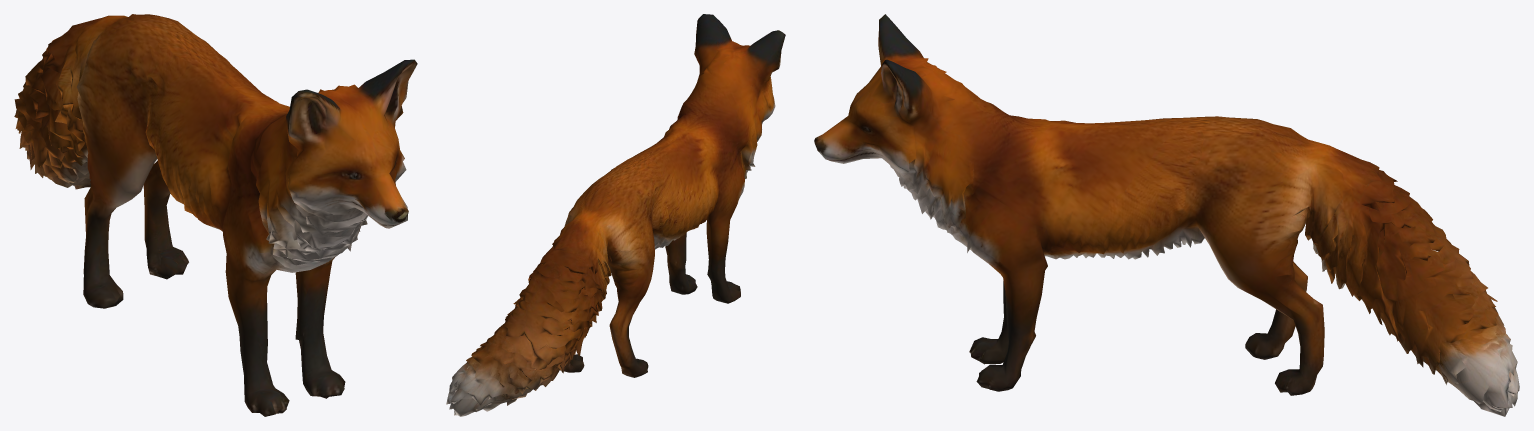
Rendered from kitune.glb.
3 views of the same model, side by side, from view 1: azimuth 30°, elevation 25°; view 2: azimuth 150°, elevation 25°; view 3: azimuth 270°, elevation 25° (orthographic). The views are drawn at different scales.
Parts seen in each view (by area): view 1: tripo_node_2a74c7a4-60a2-42cf-8e90-471778430e17; view 2: tripo_node_2a74c7a4-60a2-42cf-8e90-471778430e17; view 3: tripo_node_2a74c7a4-60a2-42cf-8e90-471778430e17.
Boxes of the visible parts, x1,y1,x2,y2 form: tripo_node_2a74c7a4-60a2-42cf-8e90-471778430e17: (14, 14, 417, 416); tripo_node_2a74c7a4-60a2-42cf-8e90-471778430e17: (446, 14, 785, 416); tripo_node_2a74c7a4-60a2-42cf-8e90-471778430e17: (814, 14, 1519, 416).
Size of the model in its own units: 0.2578 by 0.523 by 0.9983.
1 material, 1 textured.
